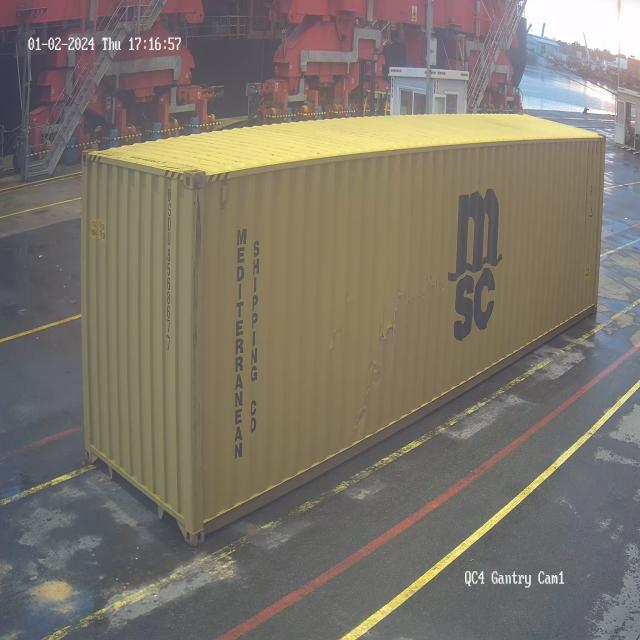dent: (330, 272, 450, 452)
